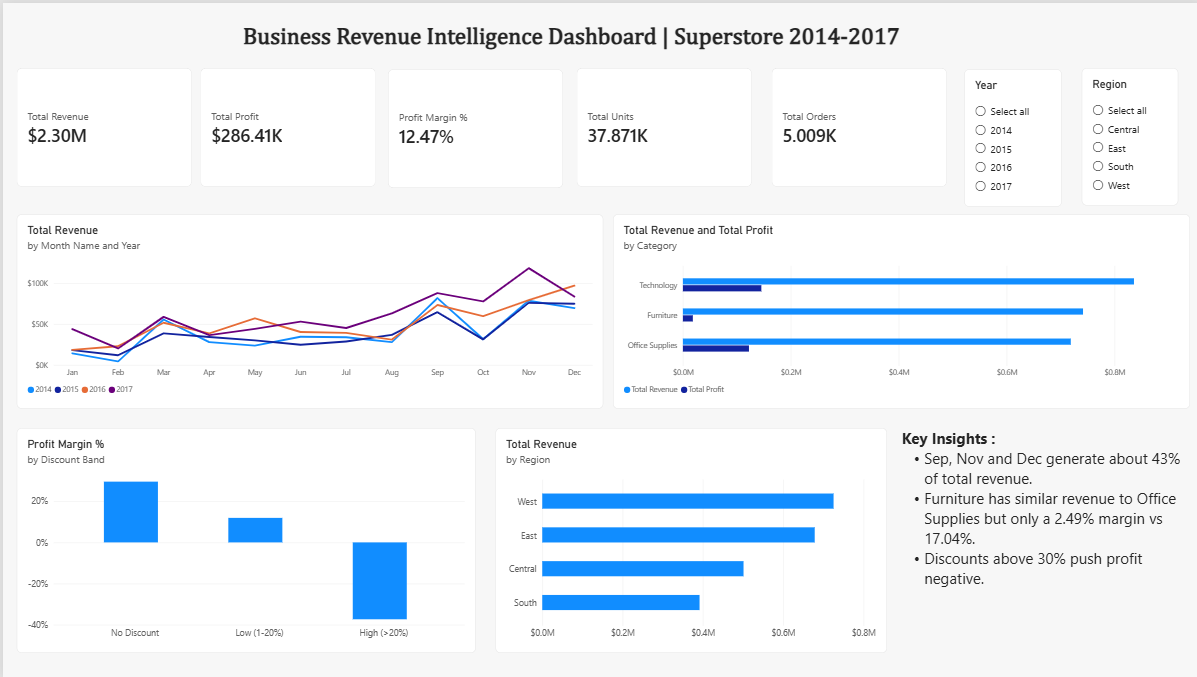

The dashboard page shown, as its layout file describes it:
{"tool":"powerbi","page":{"name":"Page 1","canvas":[1920,1080],"ordinal":0},"visuals":[{"type":"cardVisual","fields":{"Data":["_Measures.Total Profit"]},"box":[316,104,280,190],"z":0},{"type":"cardVisual","fields":{"Data":["_Measures.Total Revenue"]},"box":[22,104,280,190],"z":1000},{"type":"cardVisual","fields":{"Data":["_Measures.Profit Margin %"]},"box":[616,106,280,190],"z":2000},{"type":"cardVisual","fields":{"Data":["_Measures.Total Units"]},"box":[918,104,280,190],"z":3000},{"type":"cardVisual","fields":{"Data":["_Measures.Total Orders"]},"box":[1230,104,280,190],"z":4000},{"type":"lineChart","fields":{"Category":["Calendar.Month Name"],"Series":["Calendar.Year"],"Y":["_Measures.Total Revenue"]},"box":[22,338,938.6,311.4],"z":5000},{"type":"clusteredBarChart","fields":{"Category":["SalesData.Category"],"Y":["_Measures.Total Revenue","_Measures.Total Profit"]},"box":[976,338,922.9,311.4],"z":6000},{"type":"clusteredColumnChart","fields":{"Category":["SalesData.Discount Band "],"Y":["_Measures.Profit Margin %"]},"box":[22,680,734,360],"z":7000},{"type":"clusteredBarChart","fields":{"Category":["SalesData.Region"],"Y":["_Measures.Total Revenue"]},"box":[788,680,626,360],"z":8000},{"type":"listSlicer","fields":{"Values":["Calendar.Year"]},"box":[1538,106,156,220],"z":9000},{"type":"listSlicer","fields":{"Values":["SalesData.Region"]},"box":[1726,104,154,220],"z":10000},{"type":"textbox","box":[384,34,1232,70],"z":10001},{"type":"textbox","box":[1438,680,462,360],"z":10002}]}

Visuals, with their boxes in screenshot pixels (x1, y1, x2, y2), scaled from the page's 1920x1080 canvas onto the 1197x677 screenshot:
cardVisual - _Measures.Total Profit: rect(197, 65, 372, 184)
cardVisual - _Measures.Total Revenue: rect(14, 65, 188, 184)
cardVisual - _Measures.Profit Margin %: rect(384, 66, 559, 186)
cardVisual - _Measures.Total Units: rect(572, 65, 747, 184)
cardVisual - _Measures.Total Orders: rect(767, 65, 941, 184)
lineChart - Calendar.Month Name x Calendar.Year: rect(14, 212, 599, 407)
clusteredBarChart - SalesData.Category x _Measures.Total Revenue: rect(608, 212, 1184, 407)
clusteredColumnChart - SalesData.Discount Band  x _Measures.Profit Margin %: rect(14, 426, 471, 652)
clusteredBarChart - SalesData.Region x _Measures.Total Revenue: rect(491, 426, 882, 652)
listSlicer - Calendar.Year: rect(959, 66, 1056, 204)
listSlicer - SalesData.Region: rect(1076, 65, 1172, 203)
textbox: rect(239, 21, 1007, 65)
textbox: rect(897, 426, 1185, 652)
